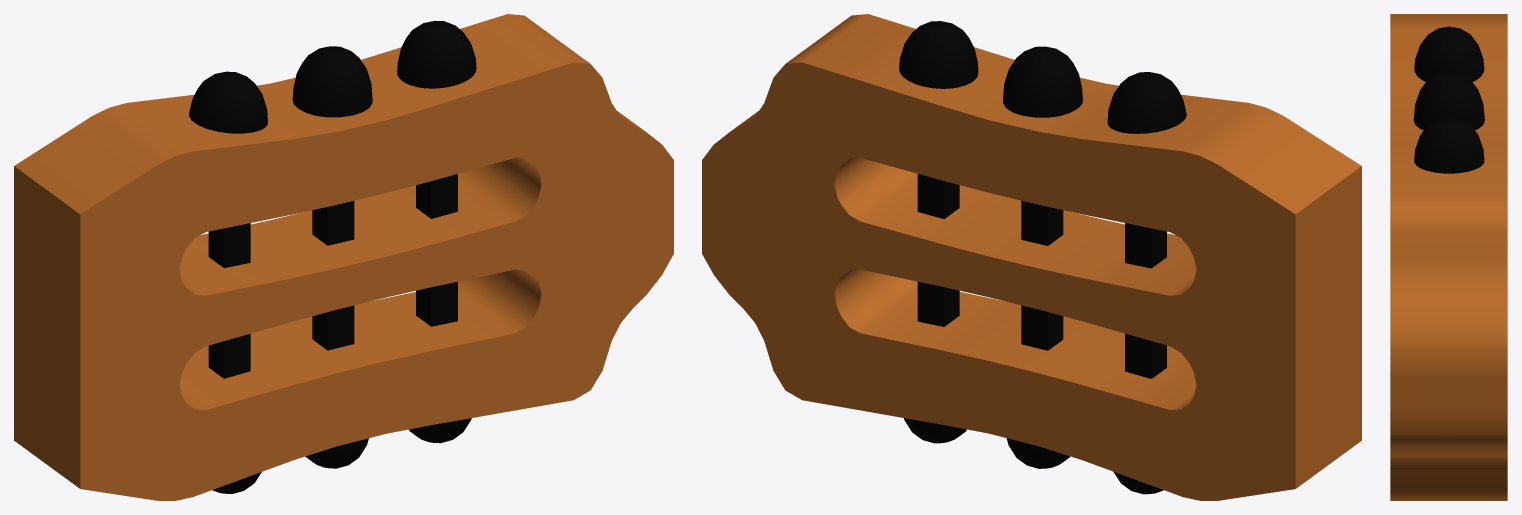
The model's file is GuitarHead.fbx.
3 renders of one model, left to right at view 1: azimuth 30°, elevation 25°; view 2: azimuth 150°, elevation 25°; view 3: azimuth 270°, elevation 25°, orthographic. The views are drawn at different scales.
Visible parts, largest first — view 1: Plane.041; view 2: Plane.041; view 3: Plane.041.
Part boxes in pixels (<box>): Plane.041: <box>14,14,673,500</box>; Plane.041: <box>702,14,1361,500</box>; Plane.041: <box>1390,14,1507,500</box>.
Size of the model in its own units: 1.09 by 0.7295 by 0.21.
